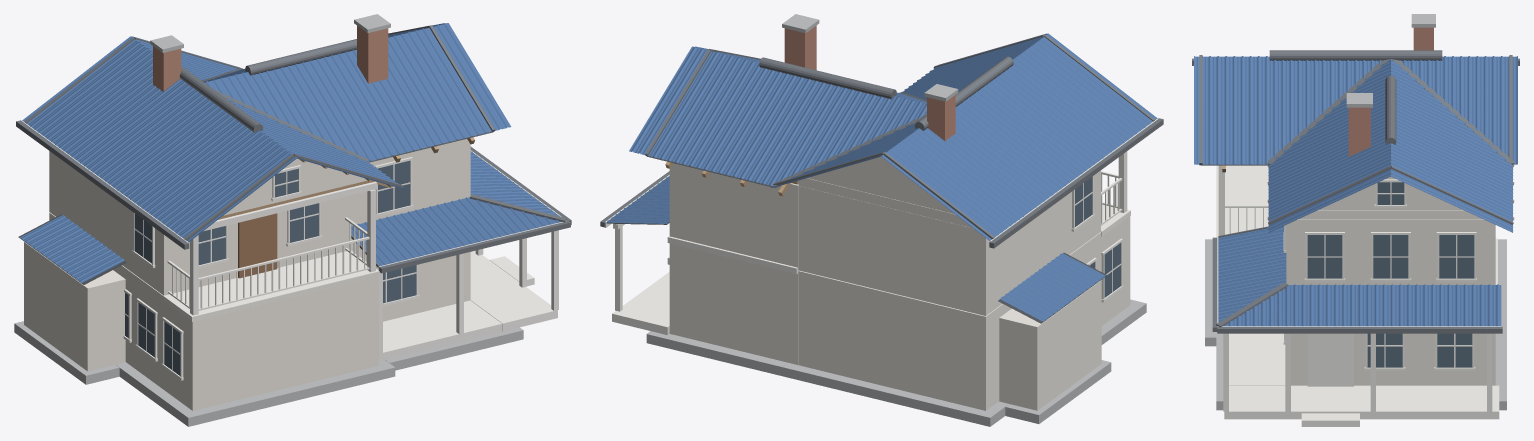
File: Mega_Six_Ribs_LShape_Balcony_House.glb
3 views of the same model, side by side, from view 1: azimuth 30°, elevation 25°; view 2: azimuth 150°, elevation 25°; view 3: azimuth 270°, elevation 25° (orthographic). The views are drawn at different scales.
Parts seen in each view (by area): view 1: WingA_Walls_GF, WingA_Walls_2F, SideBay_Walls, WingB_Walls, Balcony_Floor, Foundation_WingA, RoofSheet_22, RoofSheet_20, Porch_Deck_FrontB, RoofSheet_23, Porch_Deck_RightB, RoofSheet_07 (+53 smaller); view 2: WingA_Walls_2F, WingA_Walls_GF, WingB_Walls, SideBay_Walls, RoofSheet_25, Foundation_WingA, RoofSheet_26, RoofSheet_27, RoofSheet_24, RoofSheet_02, RoofSheet_07, RoofSheet_05 (+35 smaller); view 3: WingB_Walls, Porch_Deck_RightB, RoofSheet_10, RoofSheet_09, RoofSheet_16, RoofSheet_11, Porch_Deck_FrontB, Balcony_Floor, Door_Frame, RoofSheet_15, RoofSheet_22, RoofSheet_25 (+56 smaller).
Boxes of the visible parts, box(x1,y1,x2,y2) form: WingA_Walls_GF: box(49, 212, 378, 410); WingA_Walls_2F: box(49, 151, 349, 295); SideBay_Walls: box(24, 242, 125, 371); WingB_Walls: box(350, 139, 470, 321); Balcony_Floor: box(163, 250, 379, 321); Foundation_WingA: box(116, 360, 395, 426); RoofSheet_22: box(388, 32, 474, 144); RoofSheet_20: box(307, 53, 402, 161); Porch_Deck_FrontB: box(379, 300, 502, 361); RoofSheet_23: box(413, 23, 511, 135); Porch_Deck_RightB: box(470, 250, 557, 331); RoofSheet_07: box(147, 130, 275, 226); WingA_Walls_2F: box(798, 170, 1100, 315); WingA_Walls_GF: box(798, 216, 1130, 410); WingB_Walls: box(669, 163, 798, 364); SideBay_Walls: box(999, 280, 1101, 410); RoofSheet_25: box(665, 55, 761, 168); Foundation_WingA: box(781, 299, 1146, 426); RoofSheet_26: box(701, 68, 798, 177); RoofSheet_27: box(738, 77, 834, 186); RoofSheet_24: box(629, 46, 727, 159); RoofSheet_02: box(902, 128, 1031, 225); RoofSheet_07: box(1010, 49, 1136, 148); RoofSheet_05: box(969, 82, 1094, 179); WingB_Walls: box(1286, 219, 1495, 385); Porch_Deck_RightB: box(1224, 385, 1499, 419); RoofSheet_10: box(1234, 56, 1274, 164); RoofSheet_09: box(1194, 56, 1234, 164); RoofSheet_16: box(1477, 56, 1517, 164); RoofSheet_11: box(1275, 60, 1315, 156); Porch_Deck_FrontB: box(1229, 333, 1285, 385); Balcony_Floor: box(1216, 165, 1268, 237); Door_Frame: box(1307, 333, 1353, 386); RoofSheet_15: box(1437, 56, 1477, 130); RoofSheet_22: box(1268, 143, 1390, 215); RoofSheet_25: box(1391, 143, 1513, 215).
Size of the model in its own units: 12.46 by 7.83 by 8.46.
